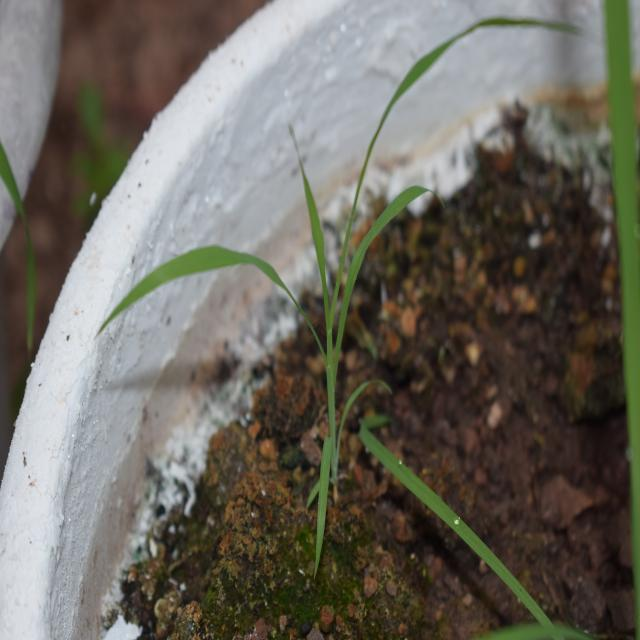barnyard_grass: (93, 25, 492, 438)
